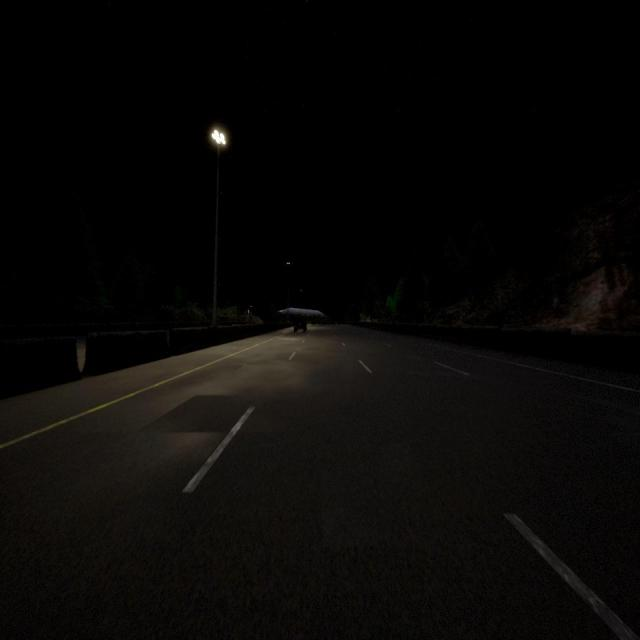Vehicle: (294, 315, 306, 332)
